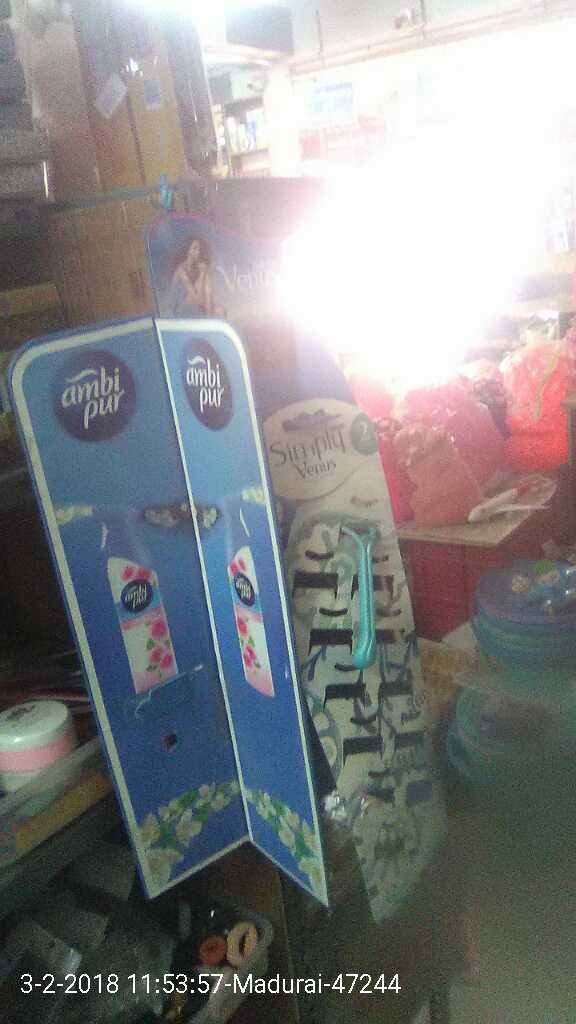reject: (304, 466, 501, 603)
